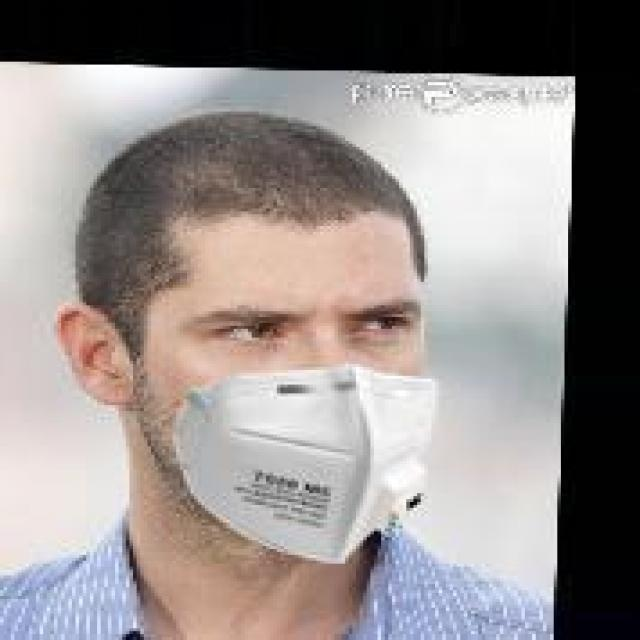mask: (68, 88, 464, 578)
